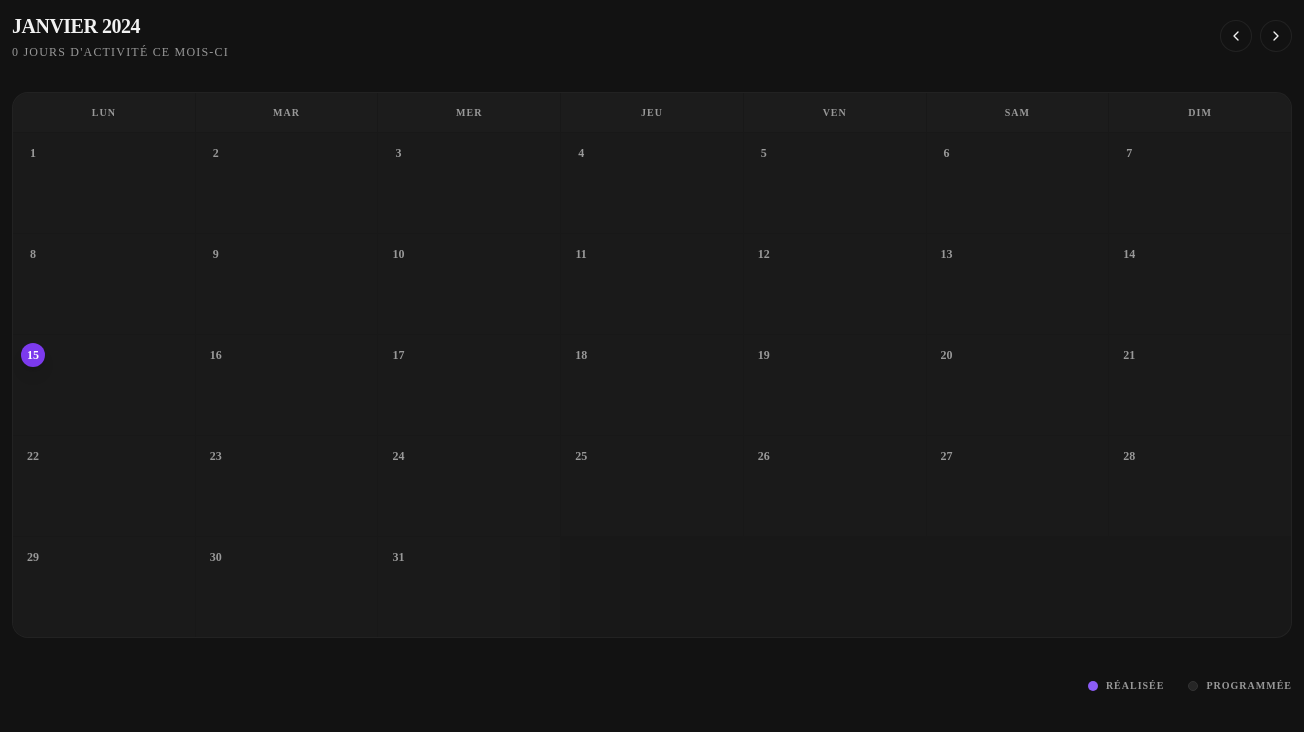
Test: CalendarViewInline › navigates to next month
The image size is (1304, 732).
Check: the heading "JANVIER 2024" is shown, box [12,15,140,37]
Click the 2nd button "Mois suivant". click: (1276, 36)
box: [1260,20,1292,52]
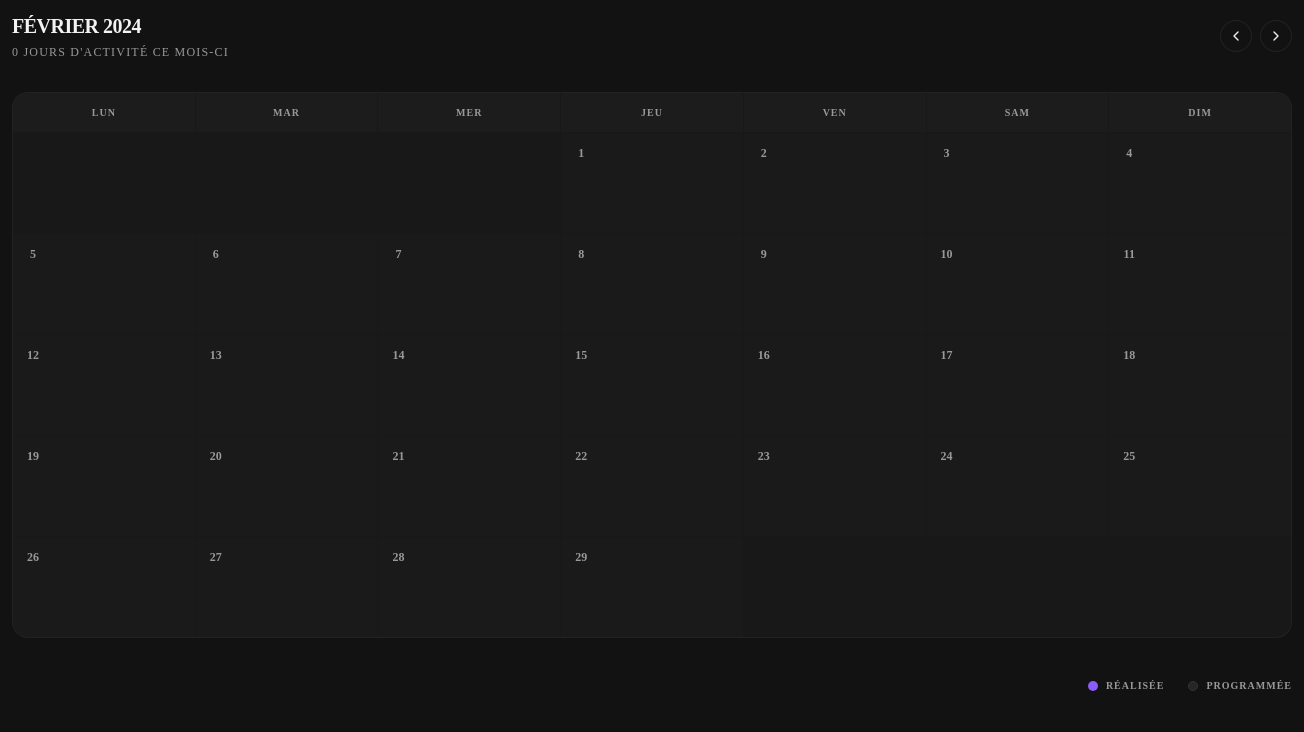
Check: the heading "FÉVRIER 2024" is shown, box [12,15,141,37]
